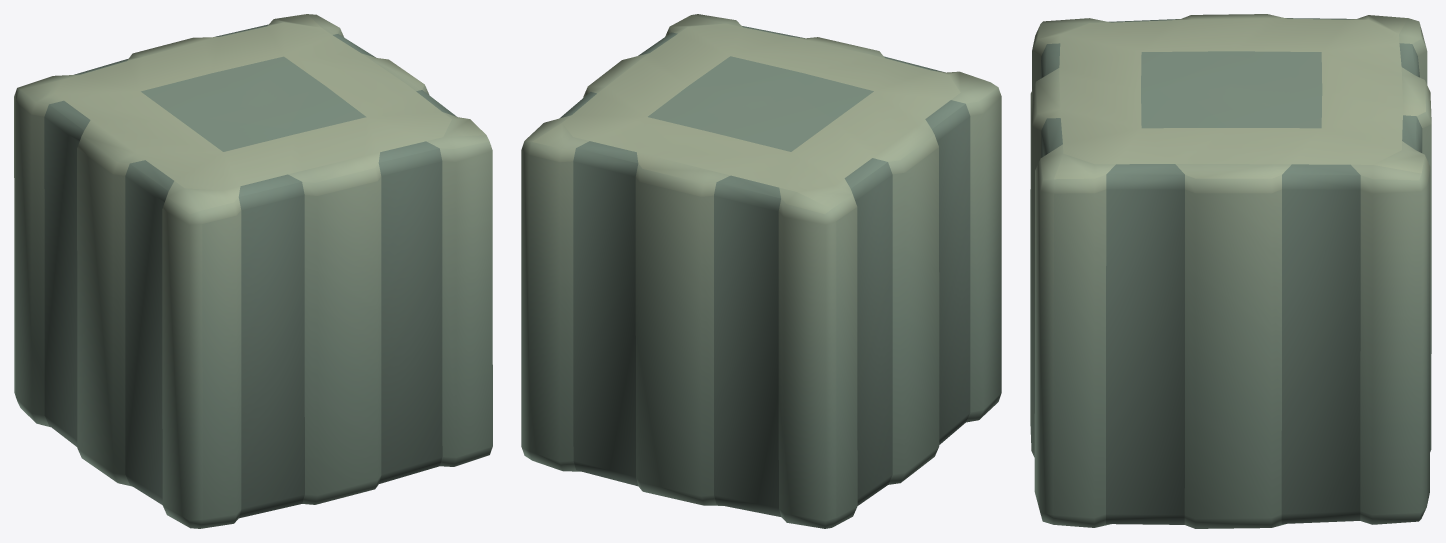
File: Stone_Pillar.fbx
3 views of the same model, side by side, from view 1: azimuth 30°, elevation 25°; view 2: azimuth 150°, elevation 25°; view 3: azimuth 270°, elevation 25° (orthographic). The views are drawn at different scales.
Parts seen in each view (by area): view 1: Stone_Pillar_LOD0; view 2: Stone_Pillar_LOD0; view 3: Stone_Pillar_LOD0.
Part boxes in pixels (box(x1,y1,x2,y2)): Stone_Pillar_LOD0: box(14, 14, 492, 528); Stone_Pillar_LOD0: box(521, 14, 1001, 528); Stone_Pillar_LOD0: box(1030, 14, 1431, 528).
Size of what is drawn, in the model's own units: 1.07 by 1.07 by 1.07.
